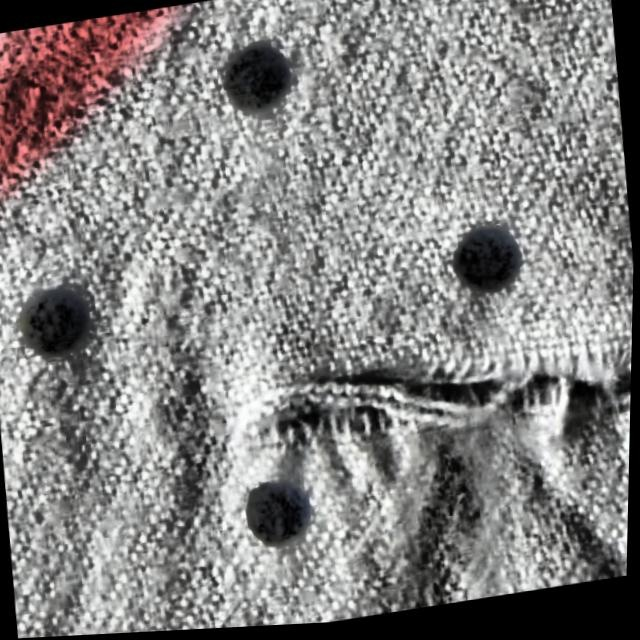Stitch: (239, 317, 631, 496)
